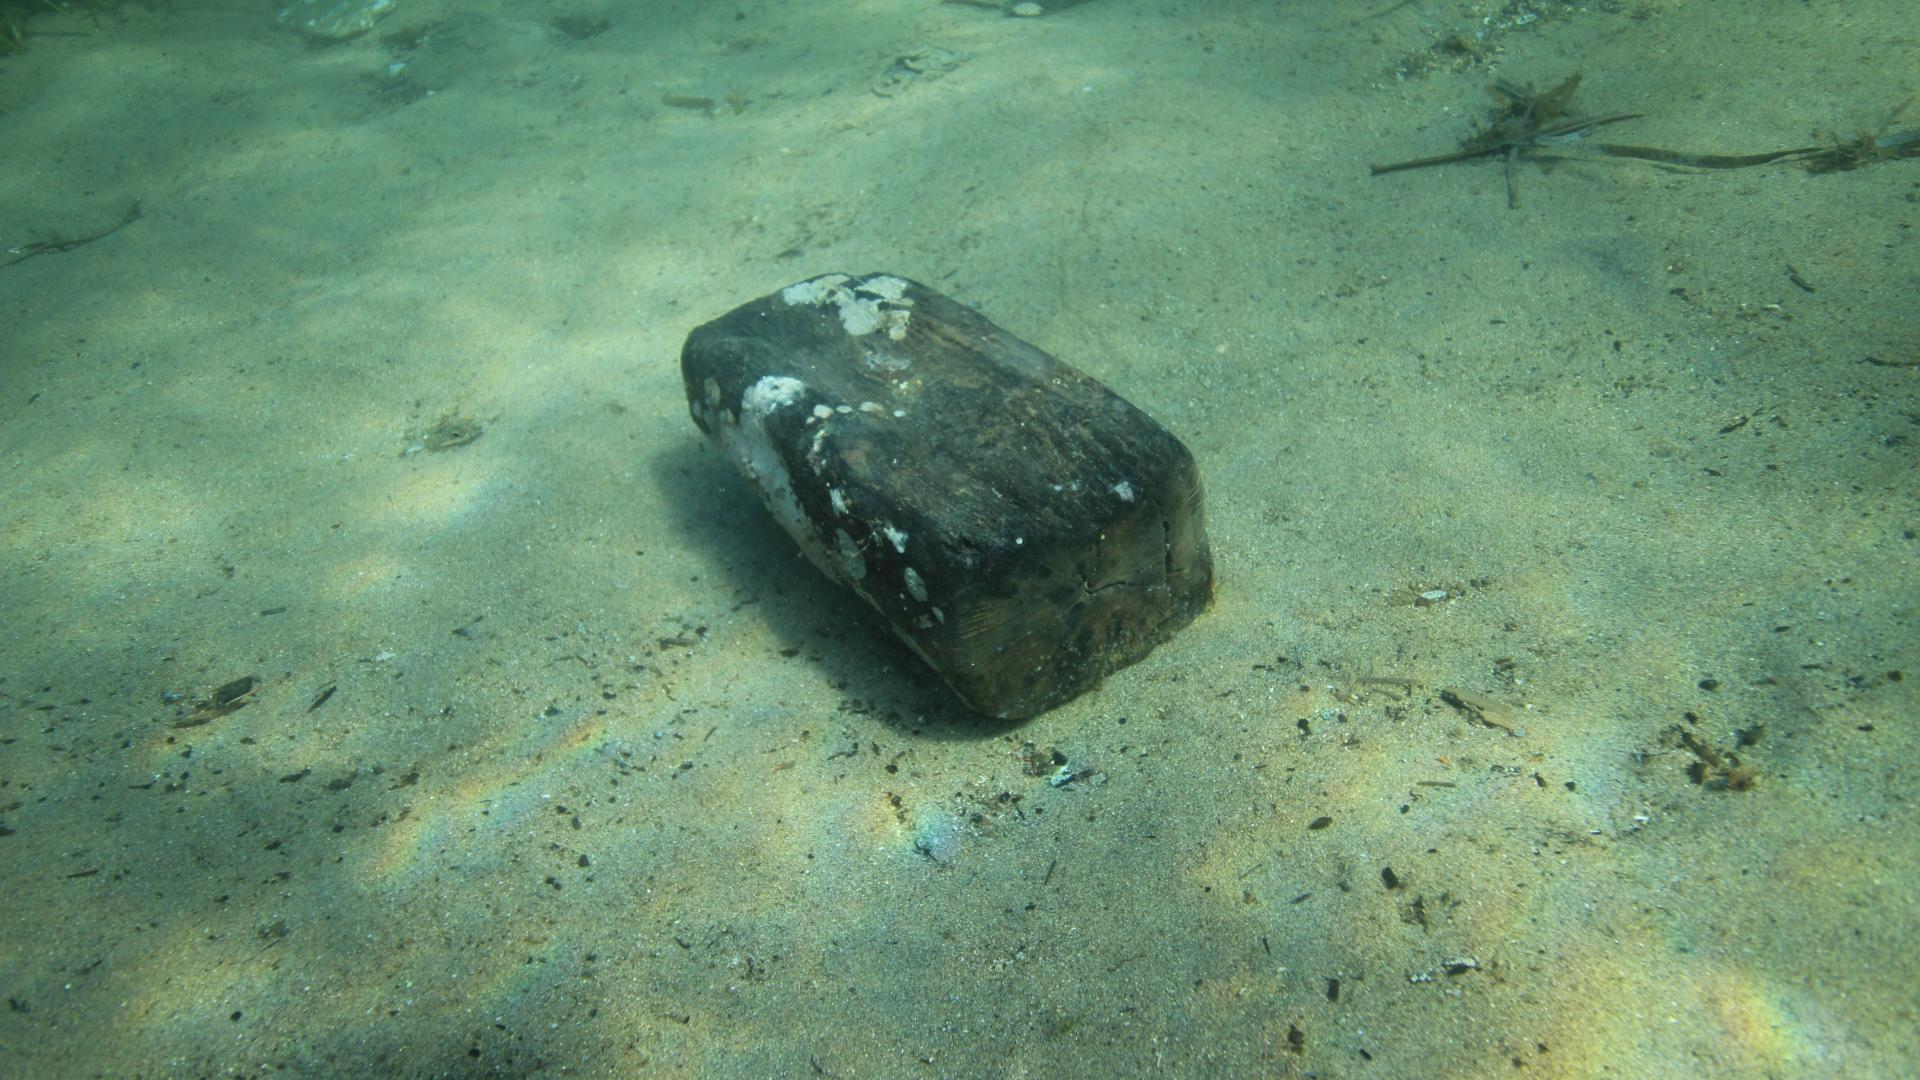wood: (680, 270, 1215, 723)
